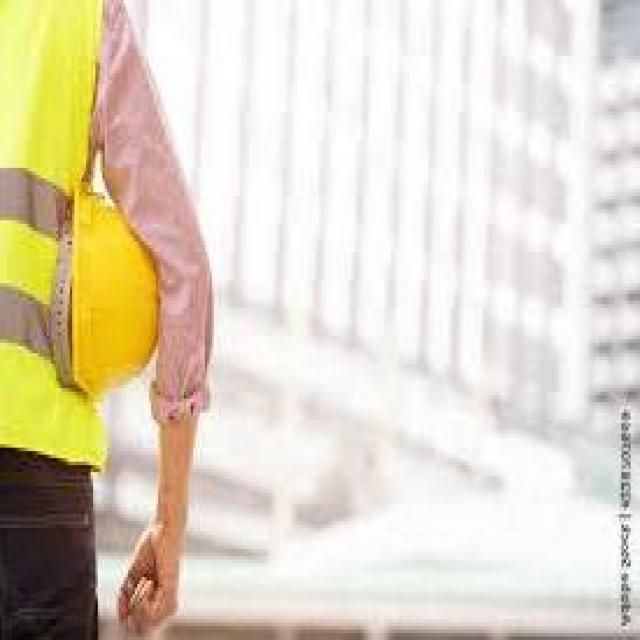Reflective-Jacket: (1, 1, 163, 490)
Safety-Helmet: (49, 181, 164, 405)
